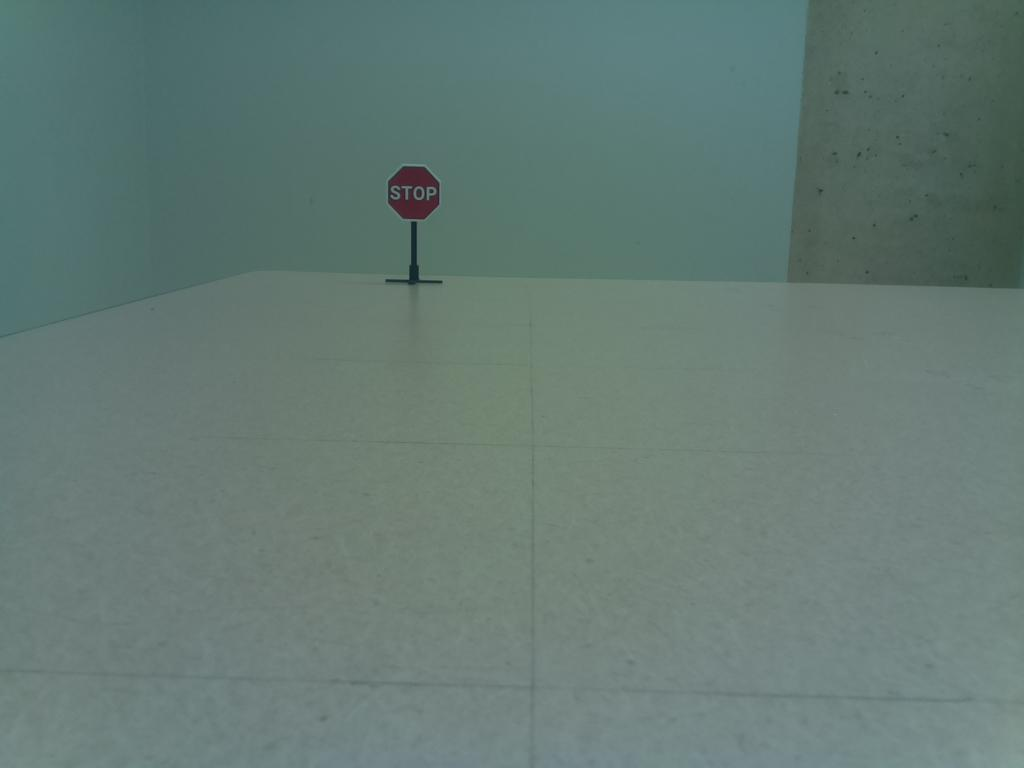sign_stop: (381, 160, 448, 226)
